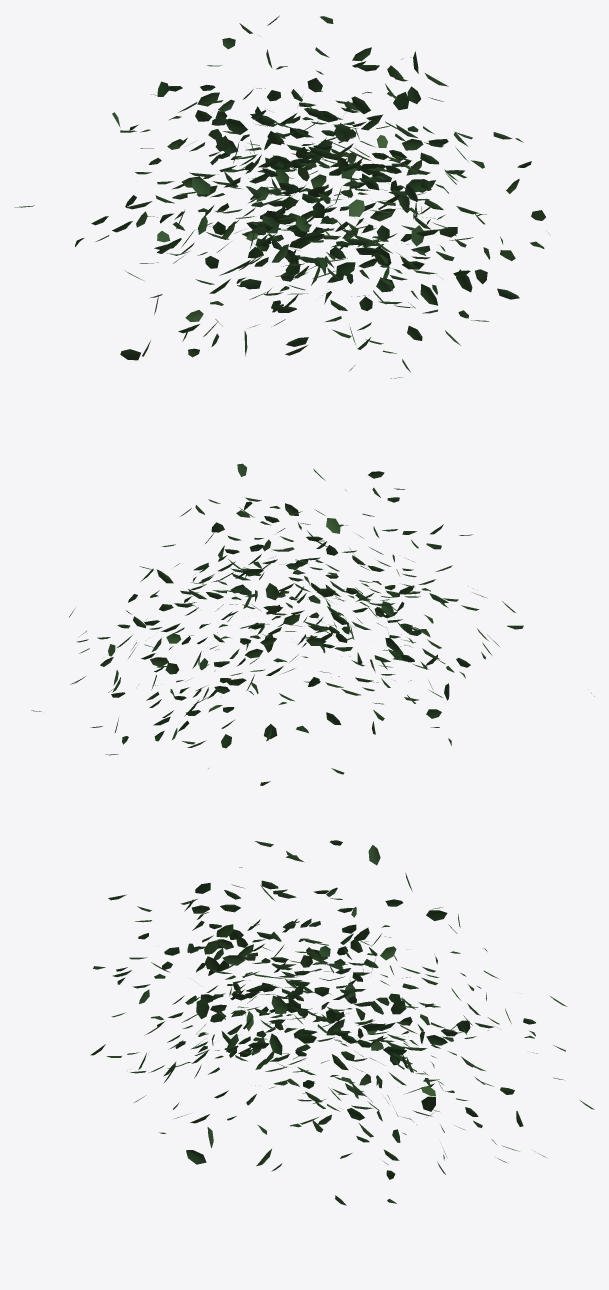
The model's file is SM_Tree_garden_low_1.glb.
The picture shows the model from 3 angles, top to bottom: view 1: azimuth 30°, elevation 25°; view 2: azimuth 150°, elevation 25°; view 3: azimuth 270°, elevation 25°; orthographic projection. The views are drawn at different scales.
Parts seen in each view (by area): view 1: SM_Tree_garden_low_1; view 2: SM_Tree_garden_low_1; view 3: SM_Tree_garden_low_1.
Boxes of the visible parts, x1,y1,x2,y2 form: SM_Tree_garden_low_1: (14, 15, 550, 378); SM_Tree_garden_low_1: (31, 463, 594, 785); SM_Tree_garden_low_1: (90, 840, 594, 1205).
Bounding box in the file's own units: 1.2 × 0.7265 × 1.23.
